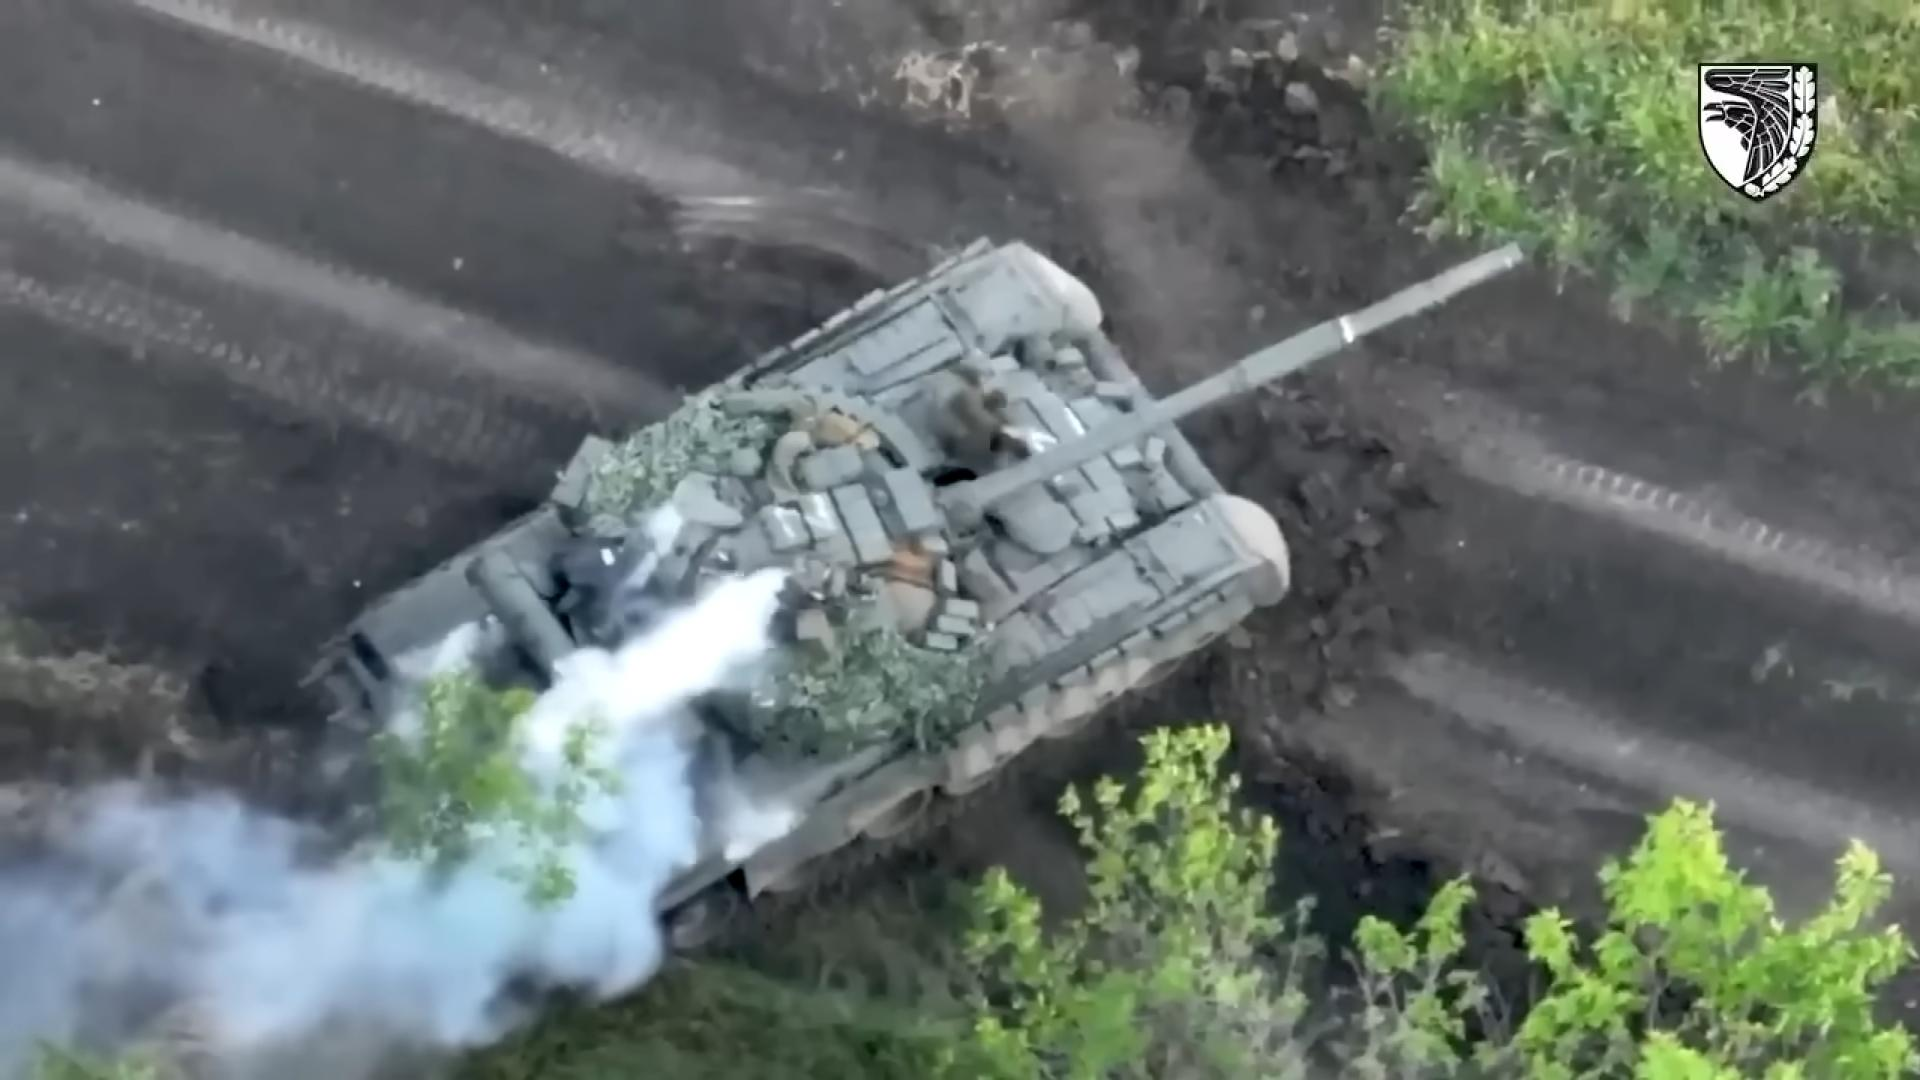tank: (308, 242, 1523, 1002)
